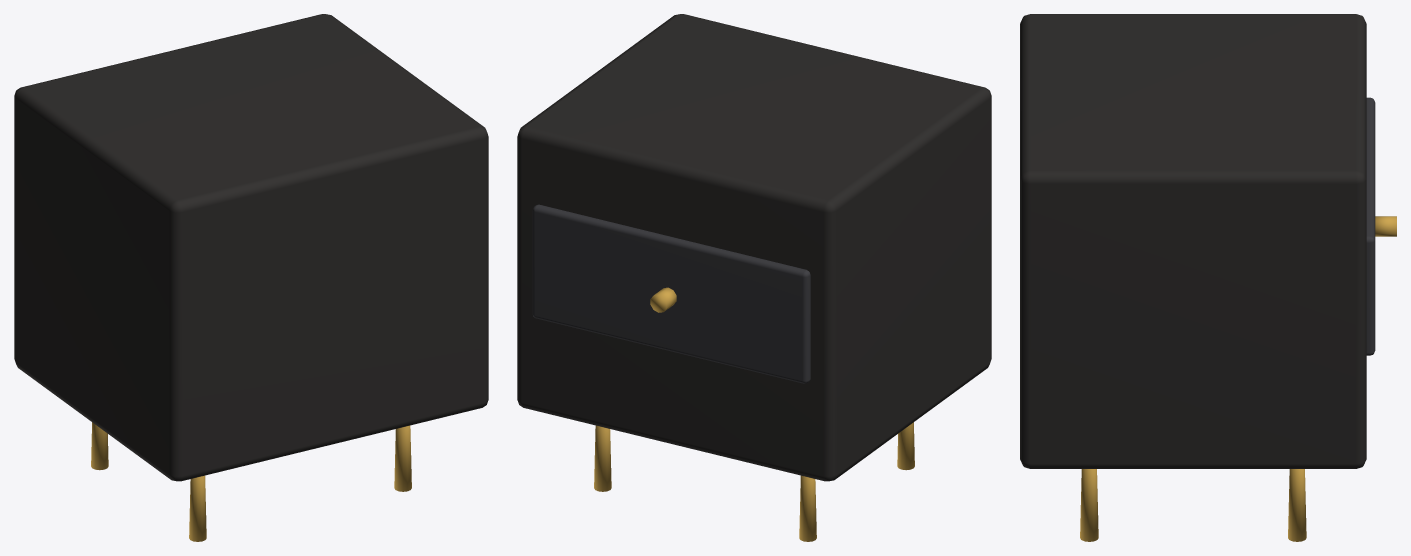
Rendered from nightstand.glb.
3 renders of one model, left to right at view 1: azimuth 30°, elevation 25°; view 2: azimuth 150°, elevation 25°; view 3: azimuth 270°, elevation 25°, orthographic. The views are drawn at different scales.
Parts seen in each view (by area): view 1: body; view 2: body; view 3: body.
Boxes of the visible parts, x1,y1,x2,y2 form: body: (14, 14, 488, 541); body: (517, 14, 991, 541); body: (1020, 14, 1396, 541).
Bounding box in the file's own units: 0.45 × 0.5 × 0.435.
